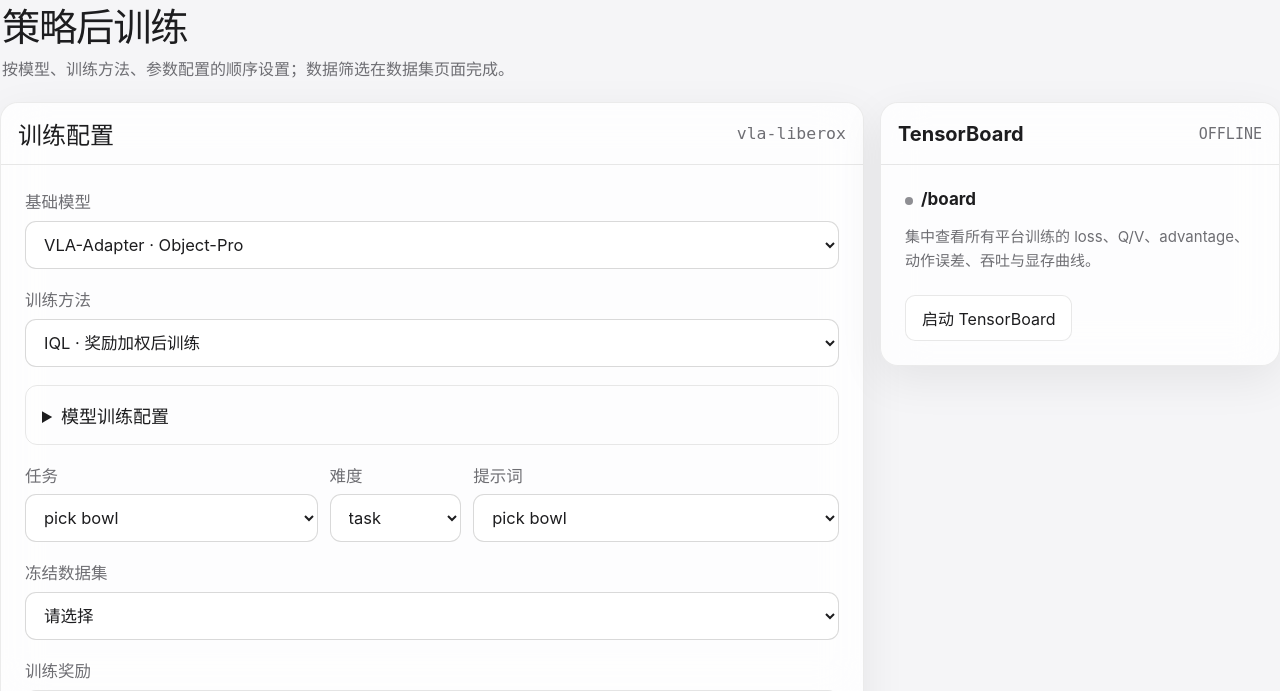
Test: dataset-pinned training reward › trains BC on an unannotated dataset without sending reward or critic settings
Select "Unready dataset · 3 条" in the dropdown labelled "冻结数据集" at (432, 616), box [25,592,839,640]
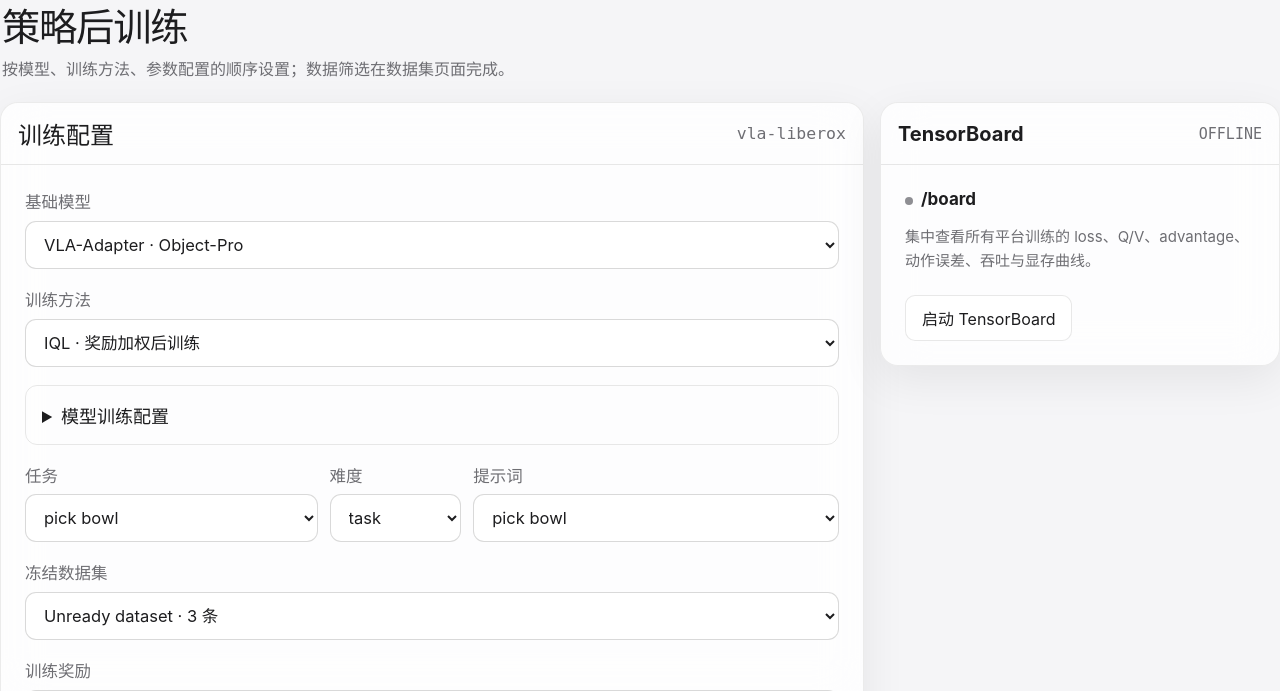
Select "BC · 等权行为克隆" in the dropdown labelled "训练方法" at (432, 344), box [25,320,839,368]
(page scrolled)
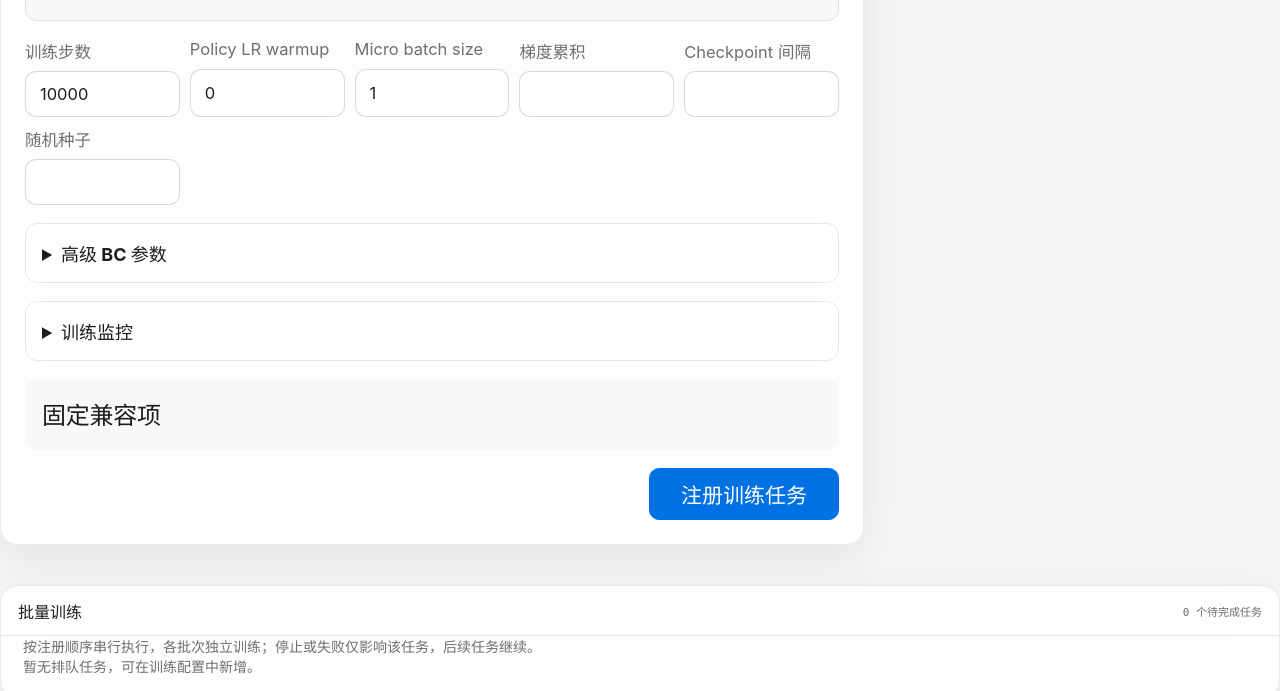
Expected: the number field labelled "Policy LR warmup" is shown, [190,69,345,117]
Now the button "注册训练任务" is enabled
Click the button "注册训练任务" at (744, 494), box [649,468,839,520]
(page scrolled)
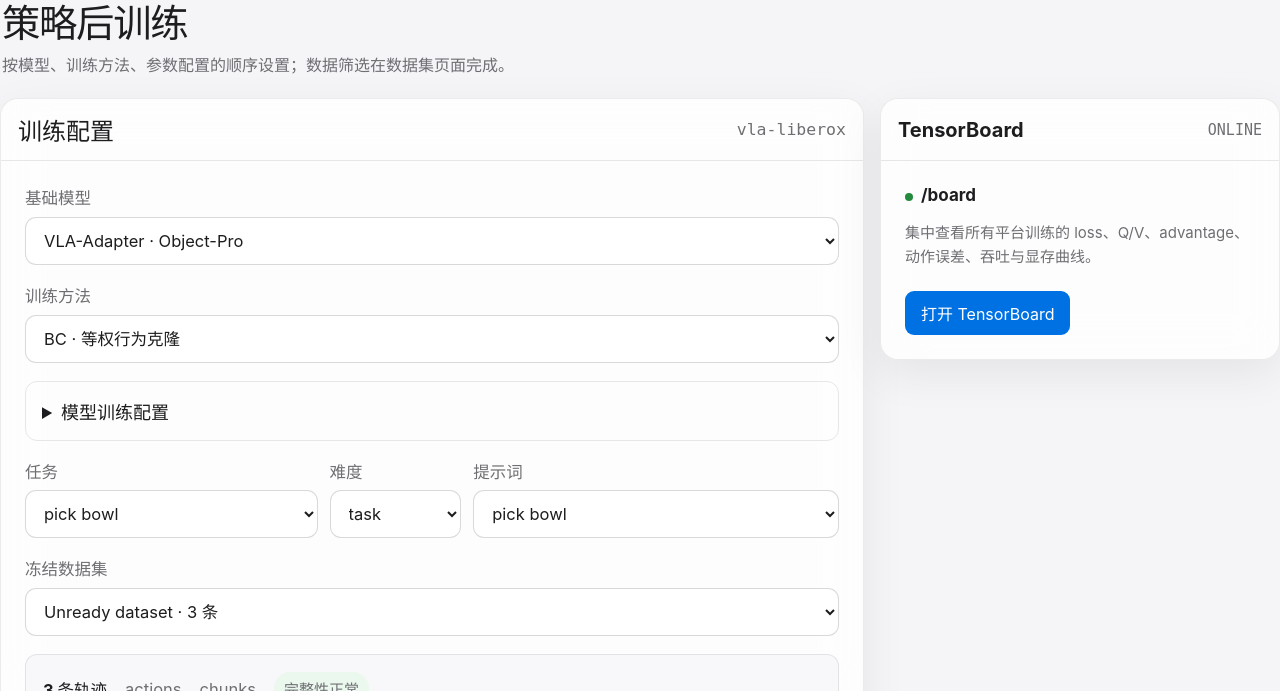
Select "IQL · 奖励加权后训练" in the dropdown labelled "训练方法" at (432, 340), box [25,316,839,364]
(page scrolled)
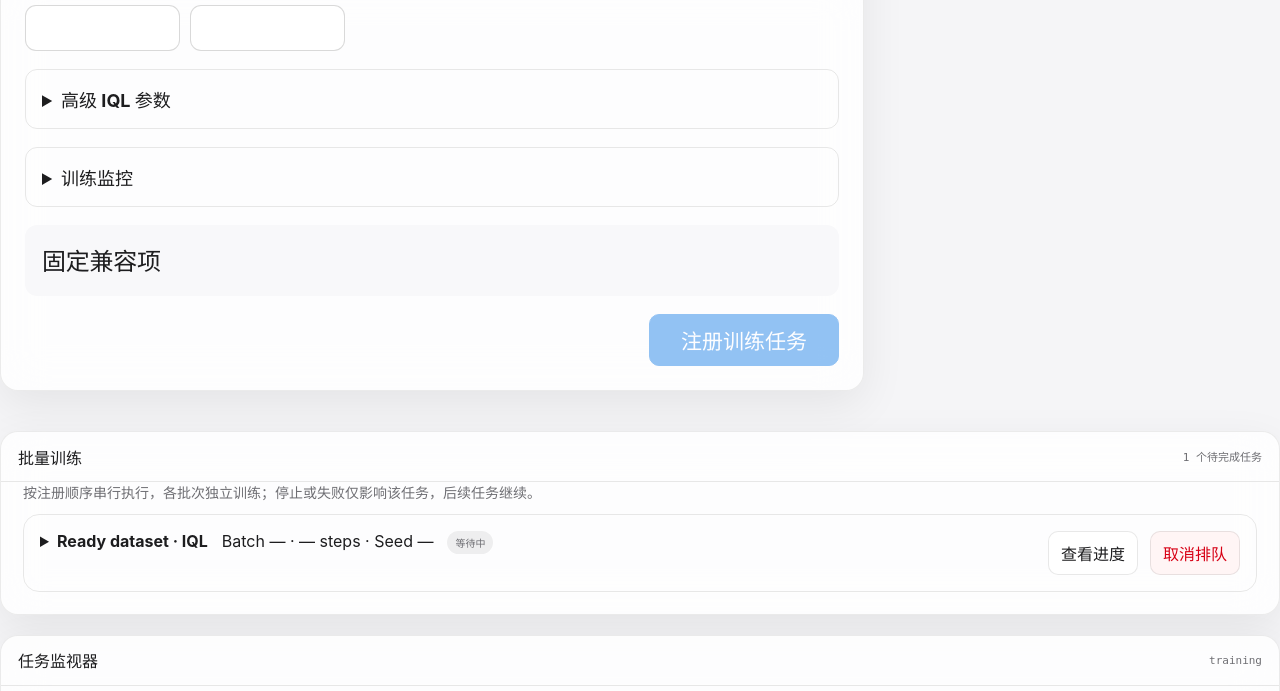
Now the button "注册训练任务" is disabled, box [649,314,839,366]
